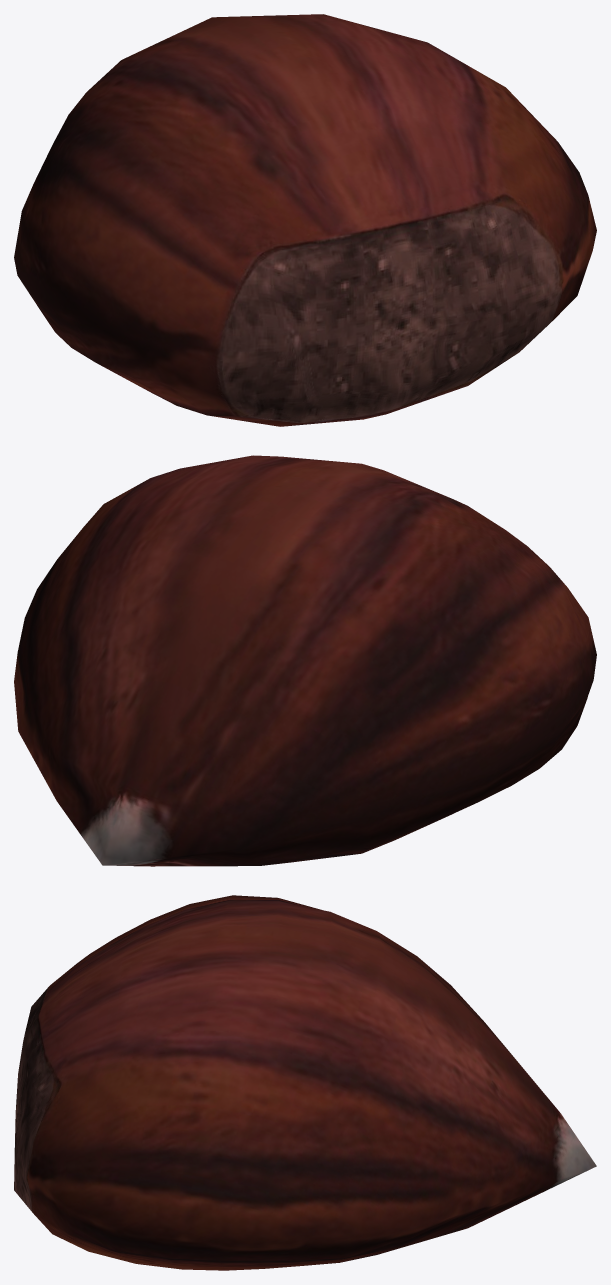
File: BrownFruitChestnut.fbx
3 views of the same model, one above another, from view 1: azimuth 30°, elevation 25°; view 2: azimuth 150°, elevation 25°; view 3: azimuth 270°, elevation 25° (orthographic). The views are drawn at different scales.
Visible parts, largest first — view 1: Castanha; view 2: Castanha; view 3: Castanha.
Boxes of the visible parts, x1,y1,x2,y2 form: Castanha: (14,14,596,426); Castanha: (14,455,596,866); Castanha: (14,895,596,1270).
Size of the model in its own units: 0.098 by 0.0602 by 0.1041.
Materials: 1 (1 with a texture image).
